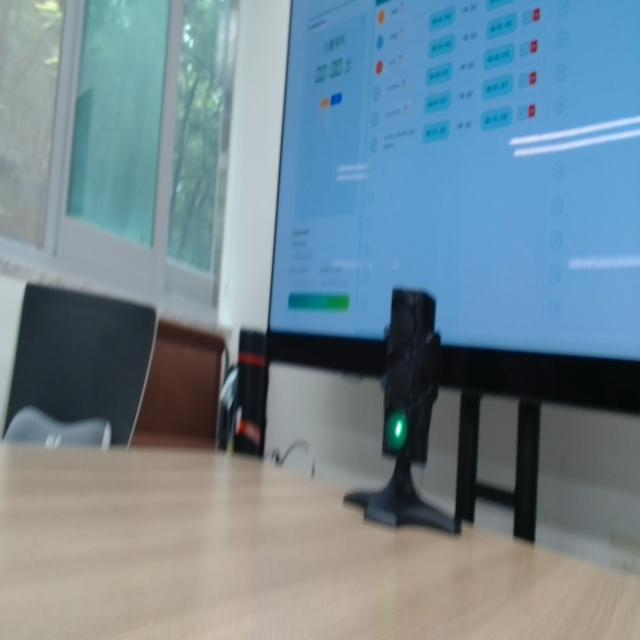green_light: (387, 412, 408, 452)
